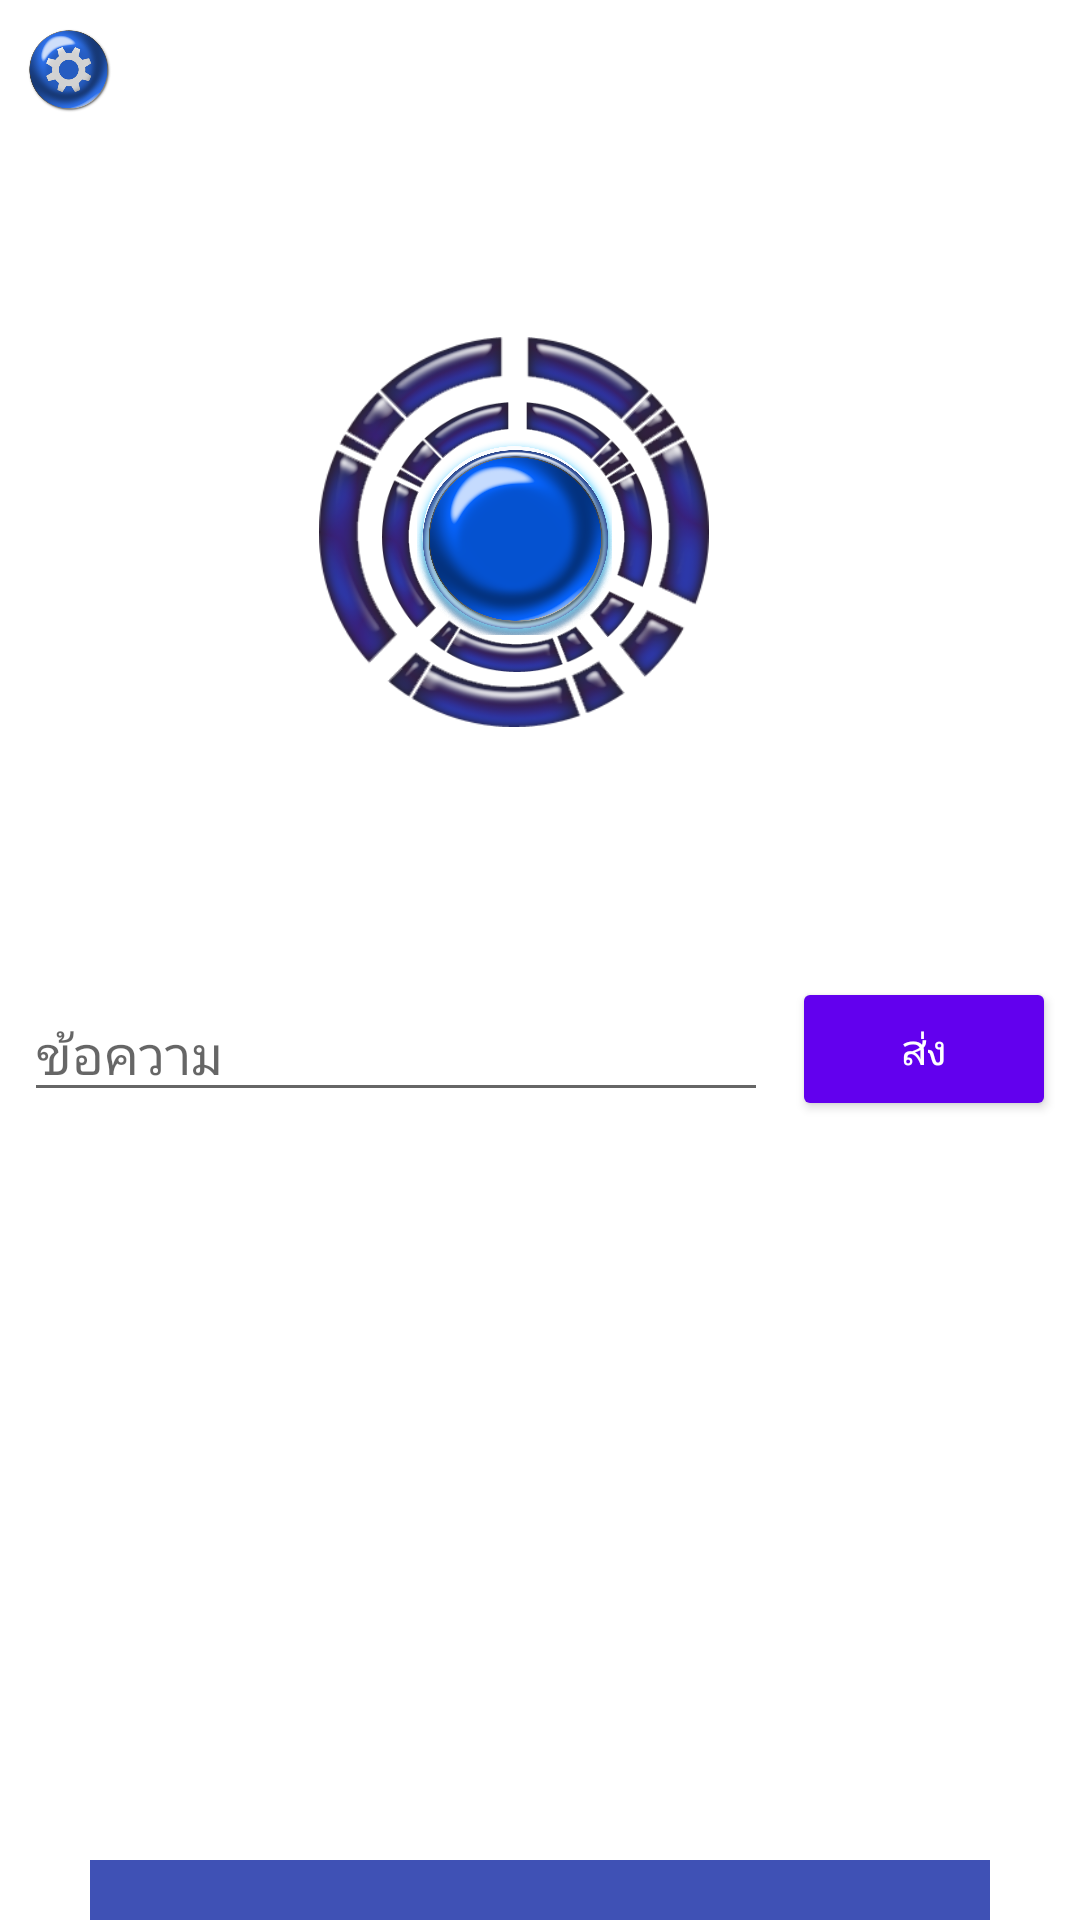

Icon bounding boxes for this 1080w x 1920h phone screenshot, format (x1, y1, x2, y2):
setting: (29, 30, 110, 111)
